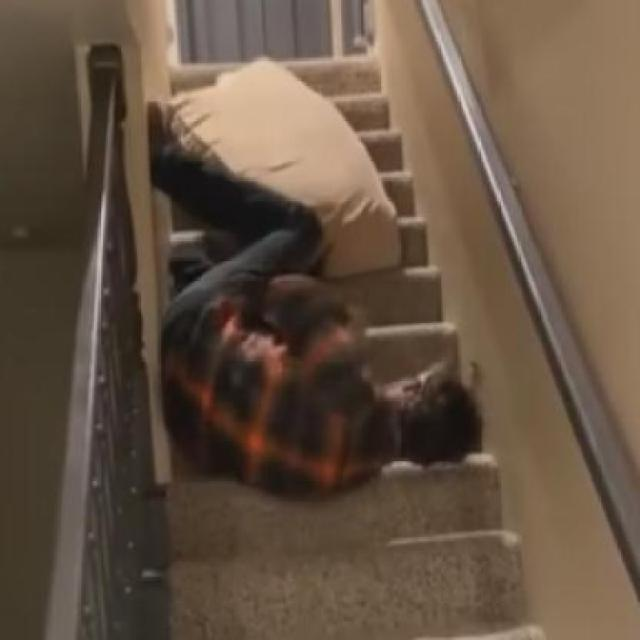fall: (148, 108, 483, 504)
